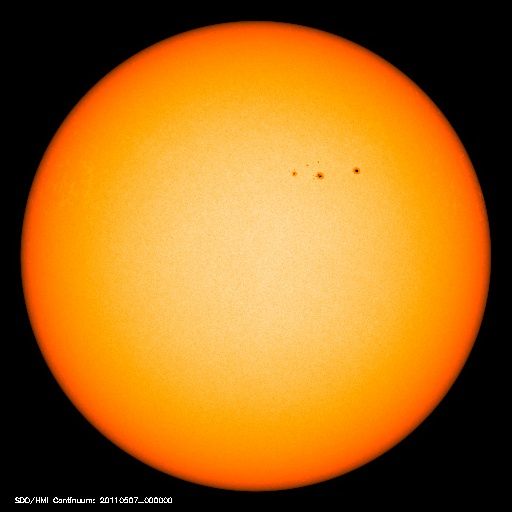sunspot: (290, 155, 367, 188)
